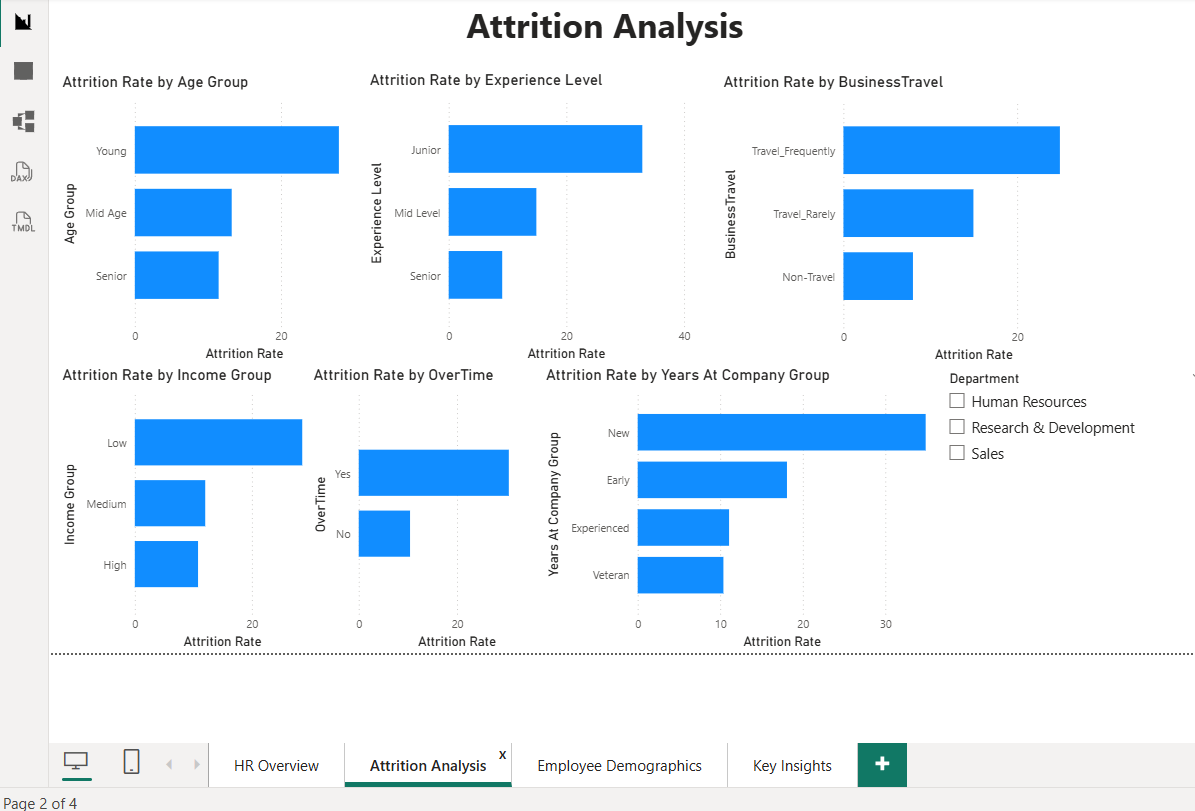

This screenshot's page, from the dashboard's own definition file:
{"tool":"powerbi","page":{"name":"Attrition Analysis","canvas":[1280,720],"ordinal":1},"visuals":[{"type":"barChart","fields":{"Y":["HR-Employee-Attrition.Attrition Rate"],"Category":["HR-Employee-Attrition.Age Group"]},"box":[9.6,82.3,337.6,322.5],"z":0},{"type":"barChart","fields":{"Y":["HR-Employee-Attrition.Attrition Rate"],"Category":["HR-Employee-Attrition.Income Group"]},"box":[9.6,404.8,289.5,315.6],"z":1000},{"type":"barChart","fields":{"Y":["HR-Employee-Attrition.Attrition Rate"],"Category":["HR-Employee-Attrition.Experience Level"]},"box":[347.2,81,362.3,323.8],"z":2000},{"type":"barChart","fields":{"Y":["HR-Employee-Attrition.Attrition Rate"],"Category":["HR-Employee-Attrition.OverTime"]},"box":[285.4,404.8,282.7,315.6],"z":3000},{"type":"barChart","fields":{"Y":["HR-Employee-Attrition.Attrition Rate"],"Category":["HR-Employee-Attrition.BusinessTravel"]},"box":[735.5,82.3,435,323.8],"z":4000},{"type":"barChart","fields":{"Y":["HR-Employee-Attrition.Attrition Rate"],"Category":["HR-Employee-Attrition.Years At Company Group"]},"box":[540.7,404.8,435,315.6],"z":5000},{"type":"slicer","fields":{"Values":["HR-Employee-Attrition.Department"]},"box":[975.6,404.8,304.6,315.6],"z":6000},{"type":"textbox","box":[0,0,1280.3,71.4],"z":6001}]}

Visuals, with their boxes on the page's 1280x720 design canvas (x1, y1, x2, y2). These are canvas units, not pixel positions in the 1195x811 screenshot, which may show the page scaled, cropped or inside an application window:
barChart - HR-Employee-Attrition.Attrition Rate x HR-Employee-Attrition.Age Group: x1=10 y1=82 x2=347 y2=405
barChart - HR-Employee-Attrition.Attrition Rate x HR-Employee-Attrition.Income Group: x1=10 y1=405 x2=299 y2=720
barChart - HR-Employee-Attrition.Attrition Rate x HR-Employee-Attrition.Experience Level: x1=347 y1=81 x2=710 y2=405
barChart - HR-Employee-Attrition.Attrition Rate x HR-Employee-Attrition.OverTime: x1=285 y1=405 x2=568 y2=720
barChart - HR-Employee-Attrition.Attrition Rate x HR-Employee-Attrition.BusinessTravel: x1=736 y1=82 x2=1170 y2=406
barChart - HR-Employee-Attrition.Attrition Rate x HR-Employee-Attrition.Years At Company Group: x1=541 y1=405 x2=976 y2=720
slicer - HR-Employee-Attrition.Department: x1=976 y1=405 x2=1280 y2=720
textbox: x1=0 y1=0 x2=1280 y2=71
